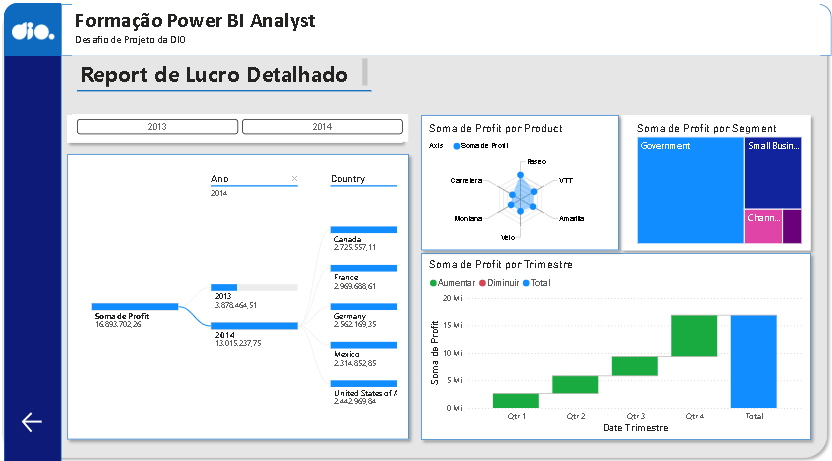

Layout of this report page (visuals, bound fields, positions):
{"tool":"powerbi","page":{"name":"Página 2","canvas":[1280,720],"ordinal":1},"visuals":[{"type":"shape","box":[18.3,0,1261.7,702.2],"z":0},{"type":"shape","box":[30,10,86.7,688.3],"z":1000},{"type":"shape","box":[116.7,8.3,1161.7,78.3],"z":2000},{"type":"shape","box":[30,8,86,80],"z":3000},{"type":"textbox","box":[133.3,8.3,1128.3,78.3],"z":4000},{"type":"textbox","box":[140,86.7,443.3,53.3],"z":5000},{"type":"shape","box":[952,168,304,222],"z":6000},{"type":"shape","box":[116.7,226.7,533.3,448.3],"z":7000},{"type":"shape","box":[650,376,606,300],"z":8000},{"type":"shape","box":[650,168,316,222],"z":9000},{"type":"shape","box":[140,126.2,443.8,26.2],"z":10000},{"type":"image","box":[42,10,64,78],"z":11000},{"type":"shape","box":[116.7,166.7,523.3,60],"z":12000},{"type":"treemap","fields":{"Values":["Sum(financials.Profit)"],"Group":["financials.Segment"]},"box":[980,186,258,190],"z":13000},{"type":"waterfallChart","fields":{"Category":["financials.Date.Variation.Hierarquia de datas.Trimestre"],"Y":["Sum(financials.Profit)"]},"box":[666,390,572,270],"z":14000},{"type":"decompositionTreeVisual","fields":{"ExplainBy":["financials.Date.Variation.Hierarquia de datas.Ano","financials.Country"],"Analyze":["Sum(financials.Profit)"]},"box":[133.3,246.7,495,413.3],"z":15000},{"type":"ChicletSlicer1448559807354","fields":{"Category":["financials.Date.Variation.Hierarquia de datas.Ano"]},"box":[133.3,175,506.7,41.7],"z":16000},{"type":"RadarChart1446119667547","fields":{"Category":["financials.Product"],"Y":["Sum(financials.Profit)"]},"box":[666,186,286,190],"z":16001},{"type":"actionButton","box":[52.9,620,42.9,40],"z":16002}]}

Visuals, with their boxes in screenshot pixels (x1, y1, x2, y2), scaled from the page's 1280x720 canvas onto the 832x461 screenshot:
shape: <bbox>12, 0, 831, 450</bbox>
shape: <bbox>20, 6, 76, 447</bbox>
shape: <bbox>76, 5, 831, 55</bbox>
shape: <bbox>20, 5, 75, 56</bbox>
textbox: <bbox>87, 5, 820, 55</bbox>
textbox: <bbox>91, 56, 379, 90</bbox>
shape: <bbox>619, 108, 816, 250</bbox>
shape: <bbox>76, 145, 422, 432</bbox>
shape: <bbox>422, 241, 816, 433</bbox>
shape: <bbox>422, 108, 628, 250</bbox>
shape: <bbox>91, 81, 379, 98</bbox>
image: <bbox>27, 6, 69, 56</bbox>
shape: <bbox>76, 107, 416, 145</bbox>
treemap - Sum(financials.Profit) x financials.Segment: <bbox>637, 119, 805, 241</bbox>
waterfallChart - financials.Date.Variation.Hierarquia de datas.Trimestre x Sum(financials.Profit): <bbox>433, 250, 805, 423</bbox>
decompositionTreeVisual - financials.Date.Variation.Hierarquia de datas.Ano x financials.Country: <bbox>87, 158, 408, 423</bbox>
ChicletSlicer1448559807354 - financials.Date.Variation.Hierarquia de datas.Ano: <bbox>87, 112, 416, 139</bbox>
RadarChart1446119667547 - financials.Product x Sum(financials.Profit): <bbox>433, 119, 619, 241</bbox>
actionButton: <bbox>34, 397, 62, 423</bbox>
